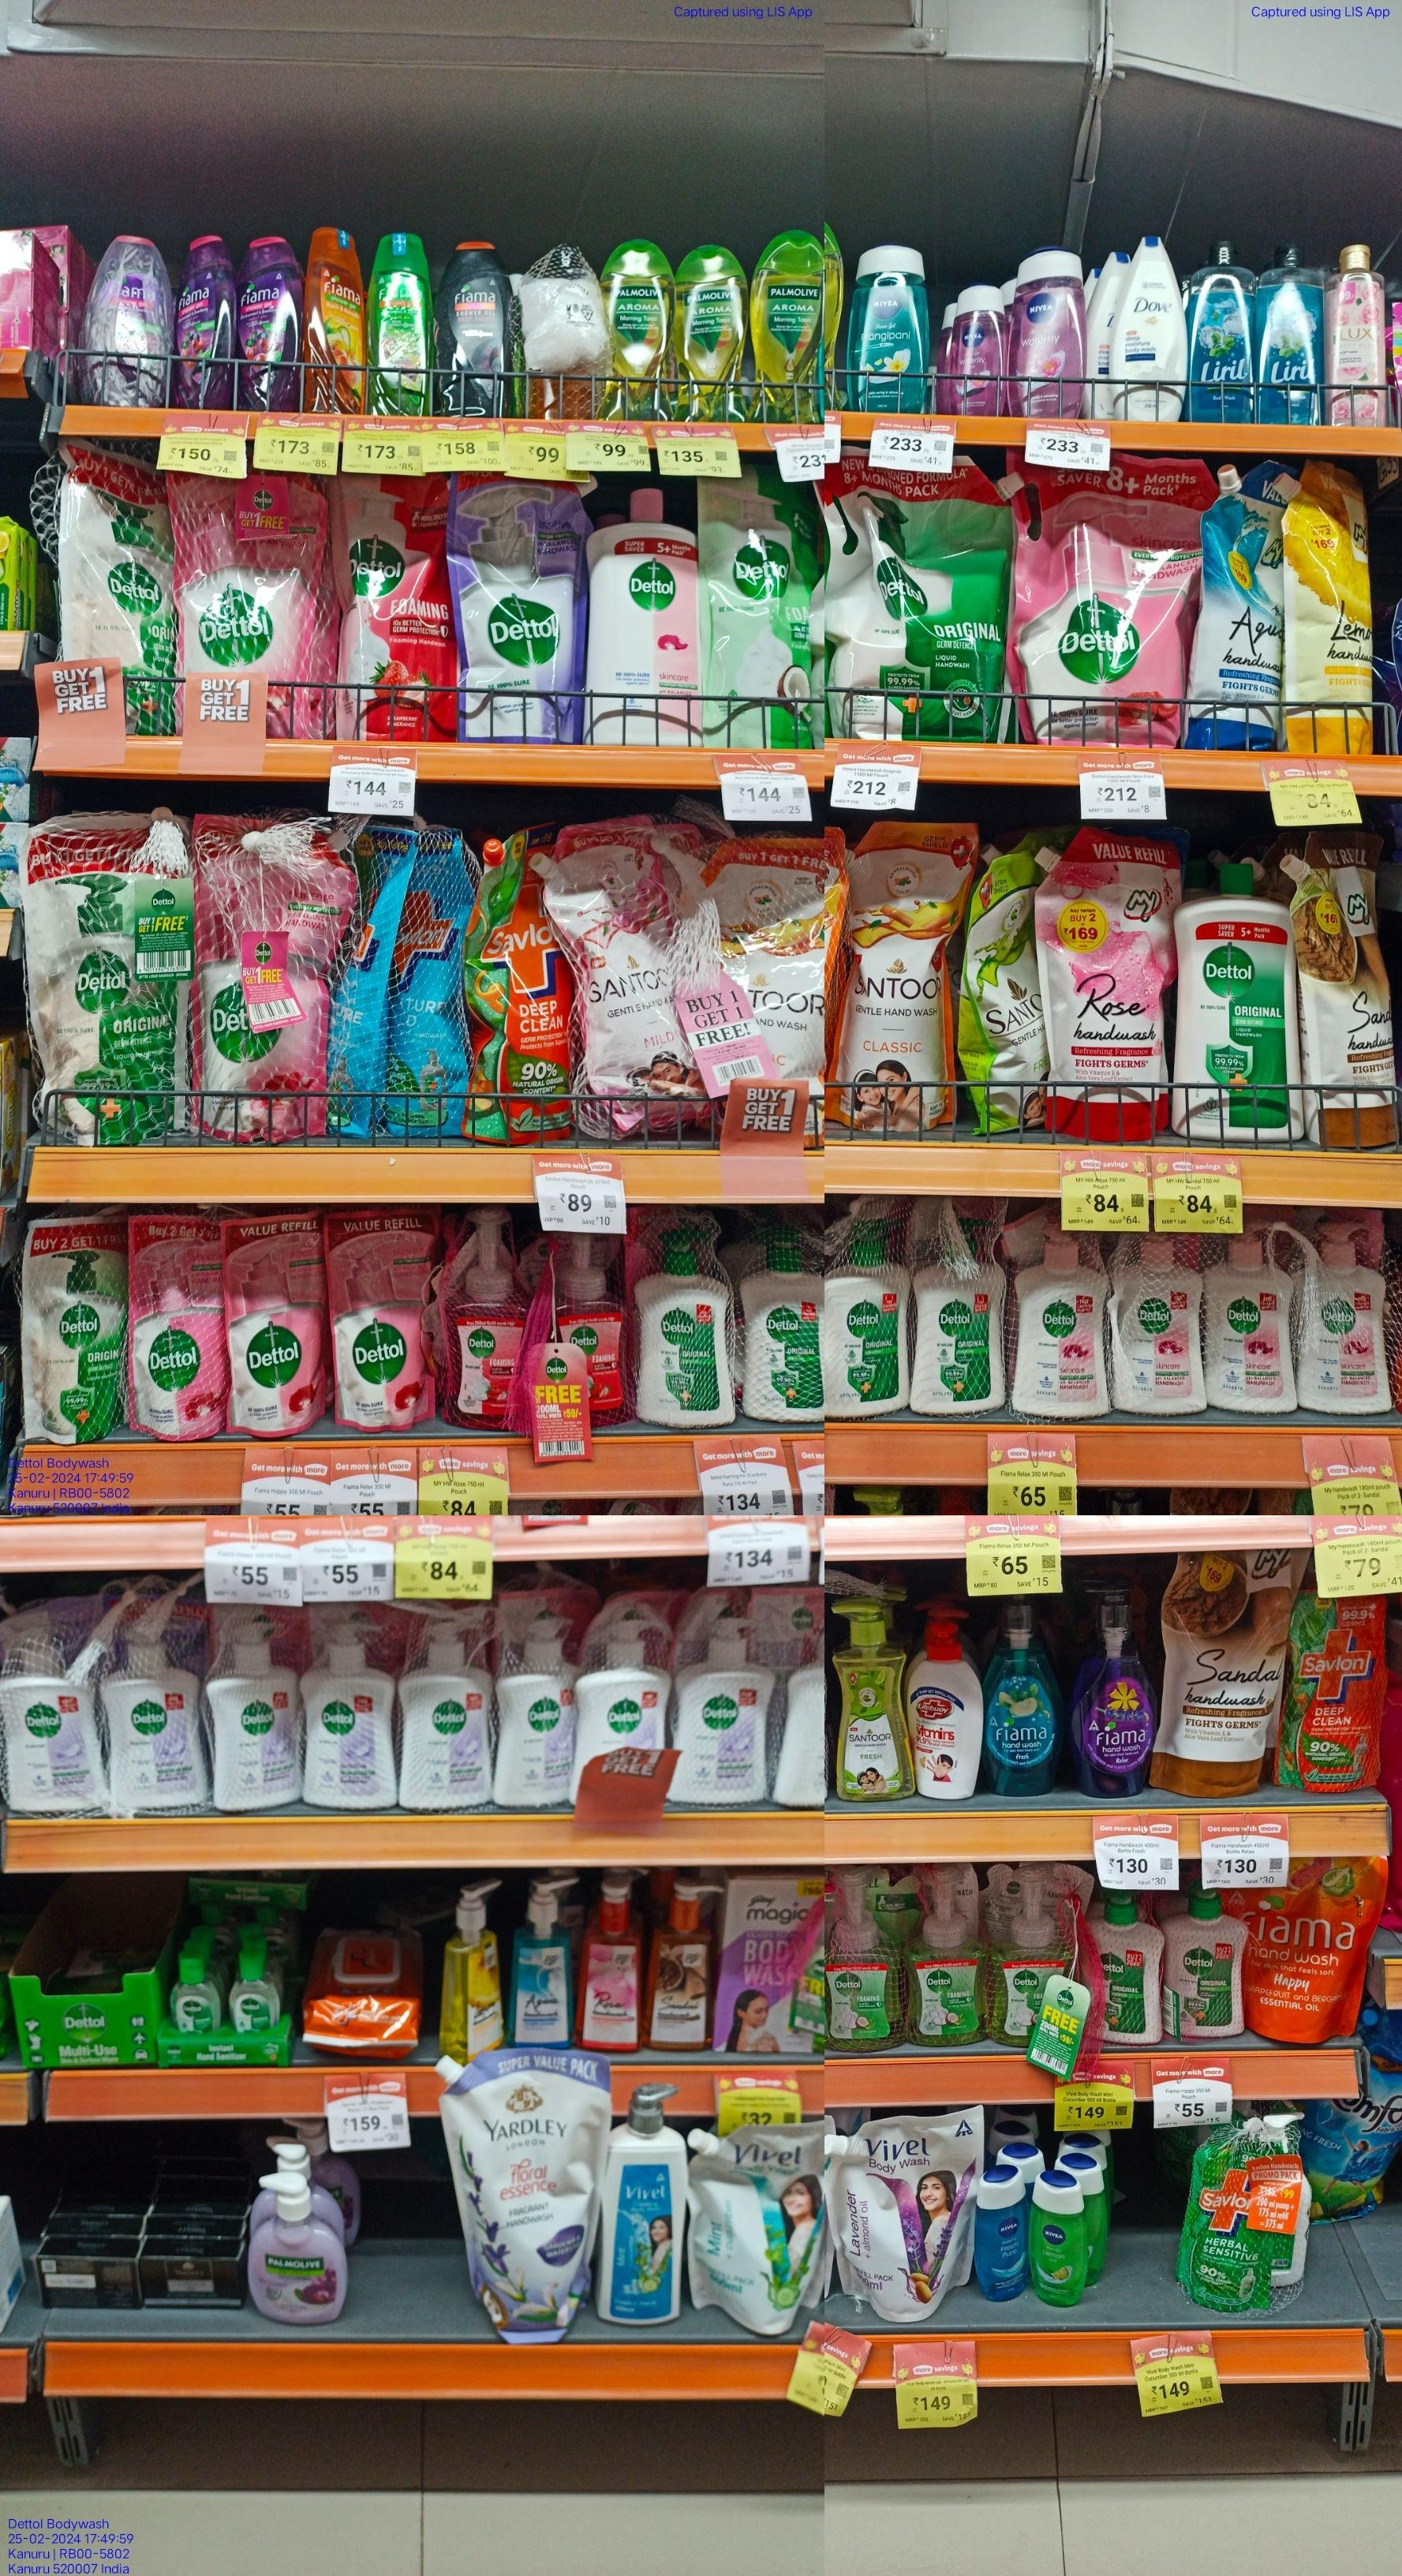Dove_Deep_Moisture_Body_Wash_250ML: (1114, 235, 1184, 420)
Fiama_Shower_Gel_Peach_and_Avocado_250ML: (309, 226, 364, 413)
Liril_Cooling_Mint_Body_Wash_250ML: (1193, 238, 1255, 423), (1259, 242, 1319, 425)
Nivea_Shower_Gel_Frangipani_and_Oil_250ML: (849, 245, 927, 413)
Nivea_Shower_Gel_Waterlily_and_Oil_250ML: (1012, 245, 1083, 416)
Palmolive_Aroma_Morning_Tonic_Shower_Gel_250ML: (753, 230, 822, 423), (673, 243, 744, 421), (604, 238, 670, 421)
